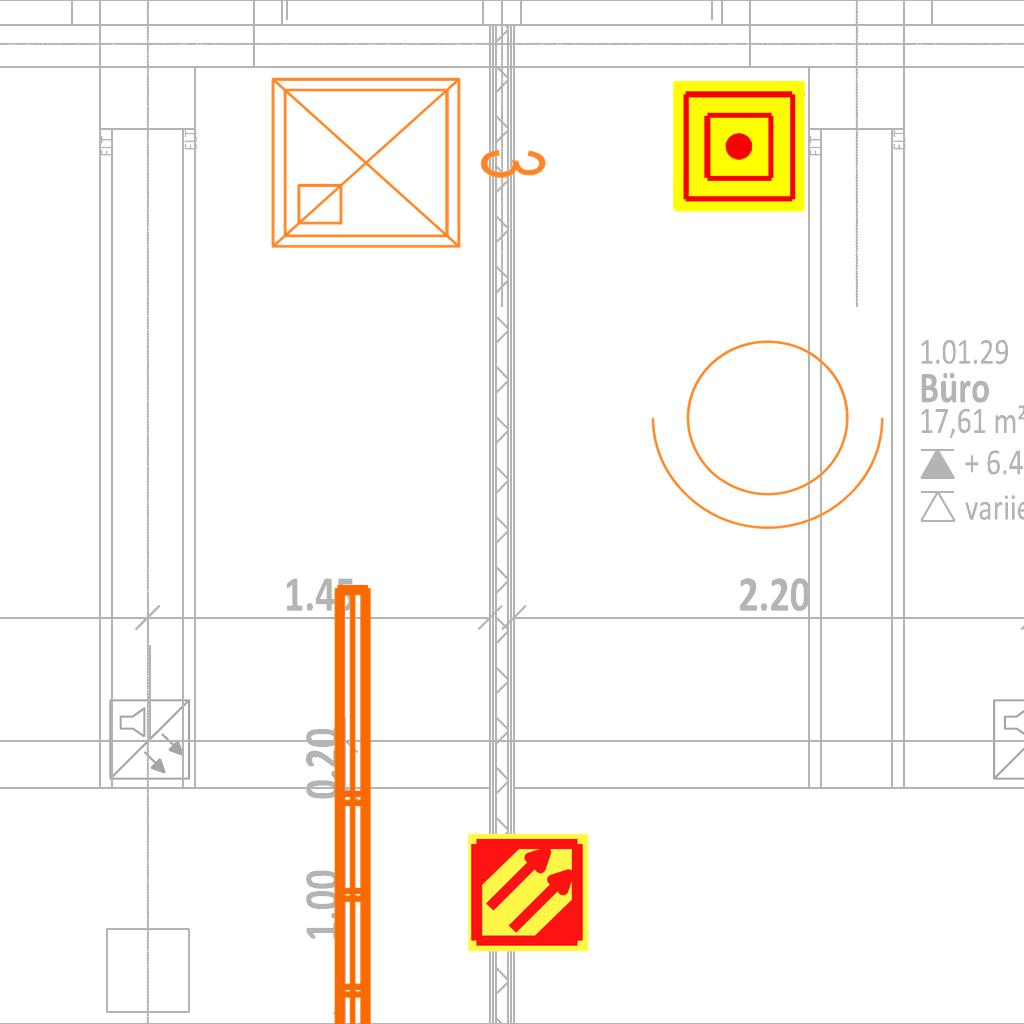ASR_Ansaugrauchmelder: (466, 830, 591, 955)
Ambulanz_Pendelleuchte_LED: (322, 574, 434, 1024)
Einbaudownlights_LED_Konferenzraeume: (257, 55, 557, 263)
NAM-Nichtautomatischer_Melder: (673, 80, 805, 212)
Scheinwerfer_fuer_Alarmbeleuchtung: (642, 315, 906, 540)
